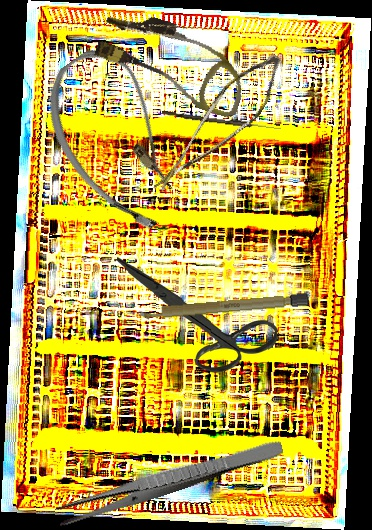Cannula: (23, 35, 213, 245), (88, 3, 257, 120)
Dressing Forceps: (54, 433, 285, 529)
Iris Scissors: (113, 257, 280, 375)
Micro Scissor: (152, 36, 291, 216)
Scalpel Handle: (136, 292, 310, 321)
Surgical Spoon: (161, 110, 281, 132)
